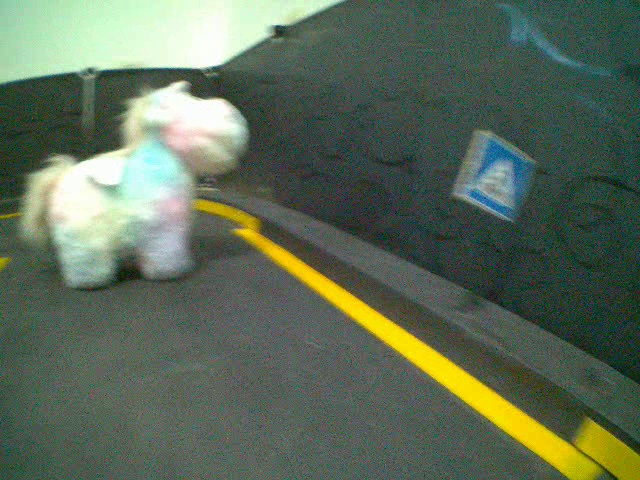unicorn: (18, 78, 253, 295)
